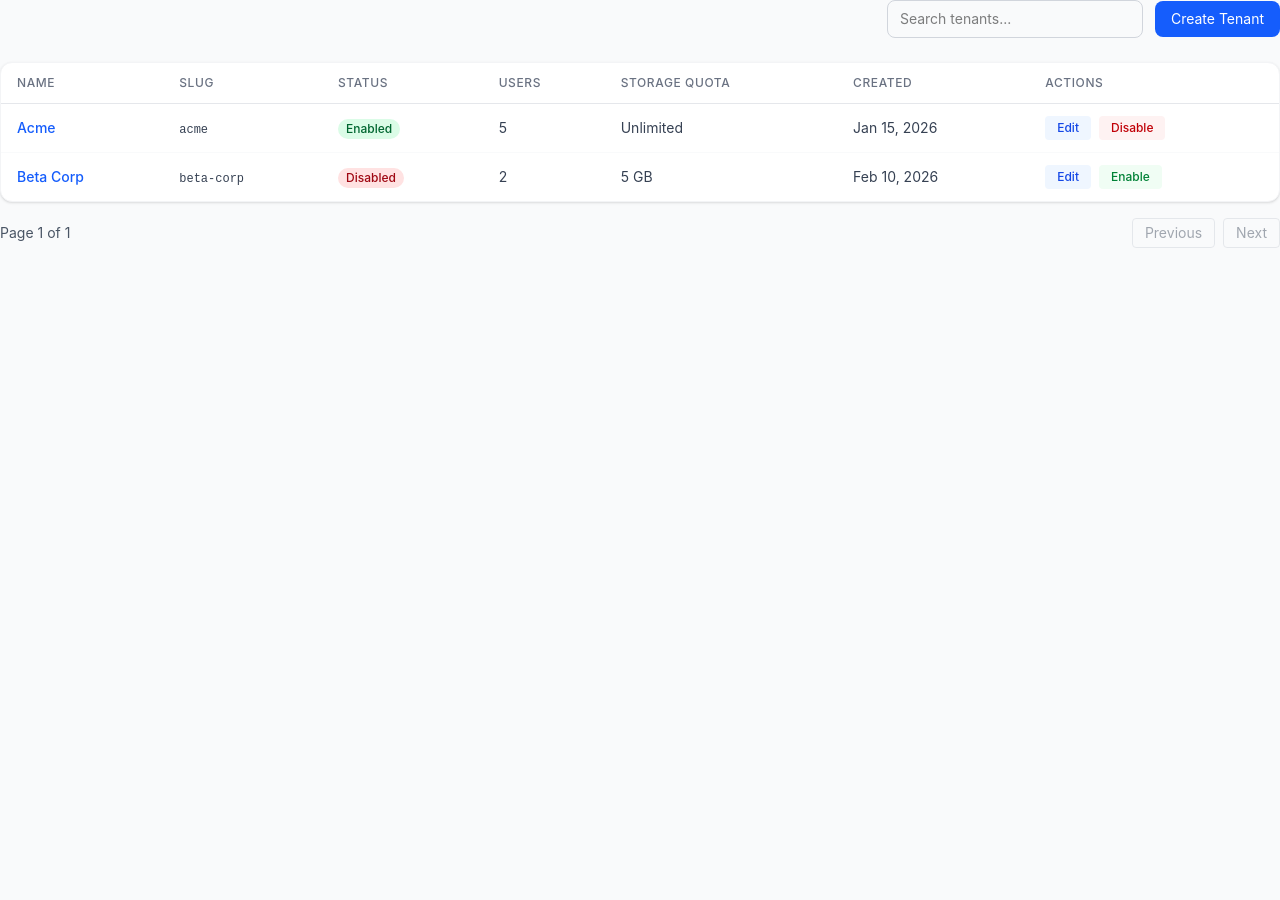
Test: TenantsPage › opens create tenant dialog
The width and height of the screenshot is (1280, 900).
Step 1. Click the button "Create Tenant" → (1217, 19), box [1155,1,1279,37]
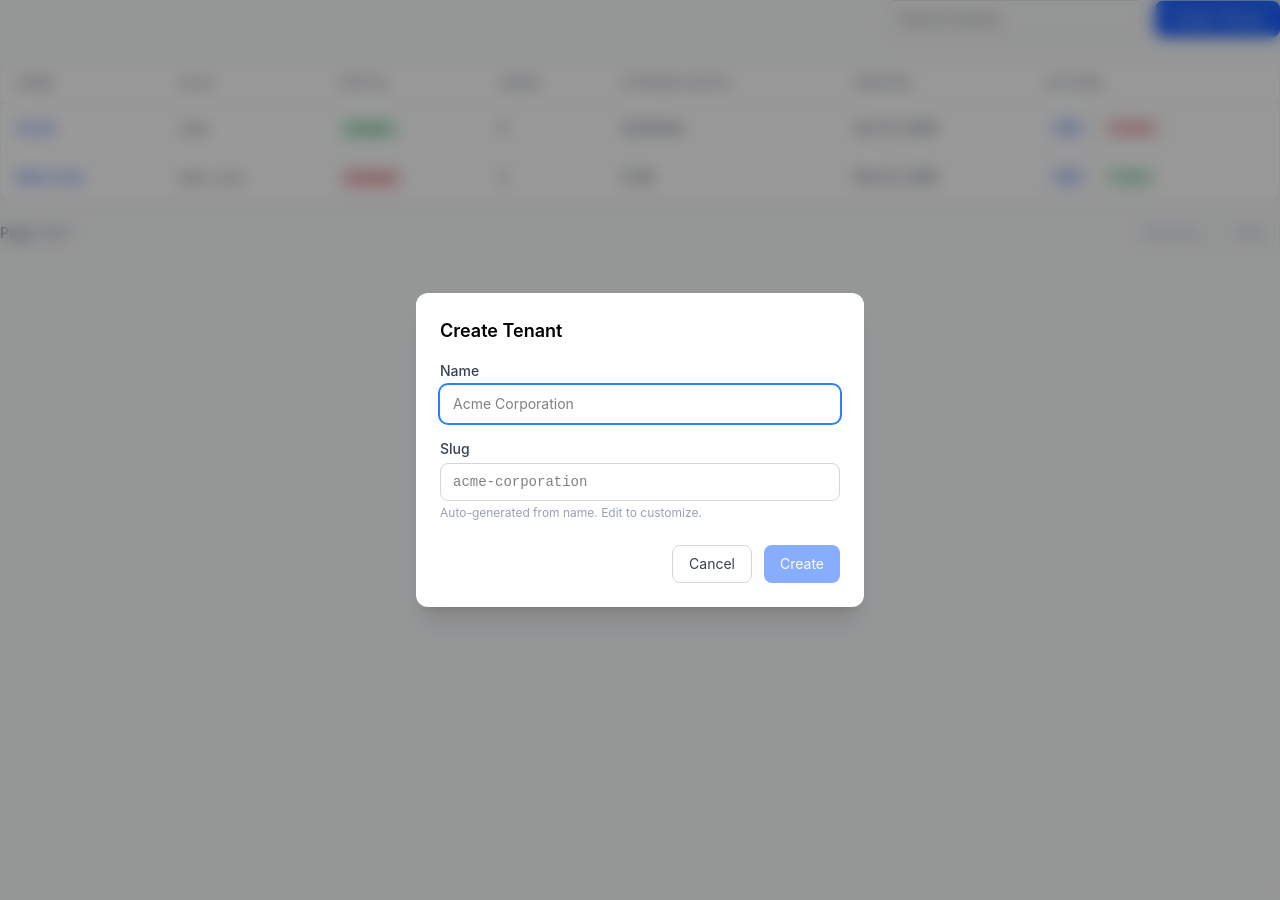
Expected: the field labelled "Name" is shown, [440,385,840,423]
Expected: the field labelled "Slug" is shown, [440,463,840,501]
